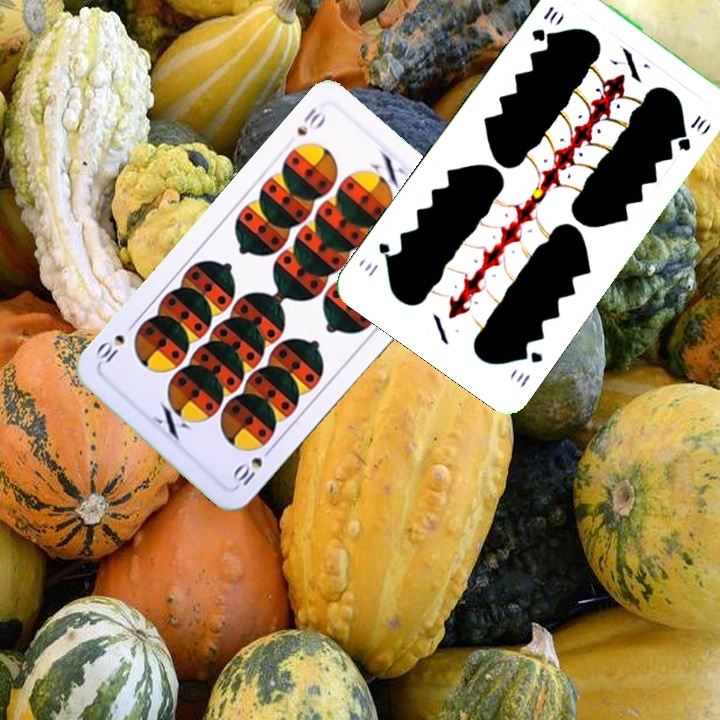G10: (512, 344, 546, 391), (527, 2, 562, 45)
S10: (229, 442, 277, 489), (292, 103, 329, 139)
